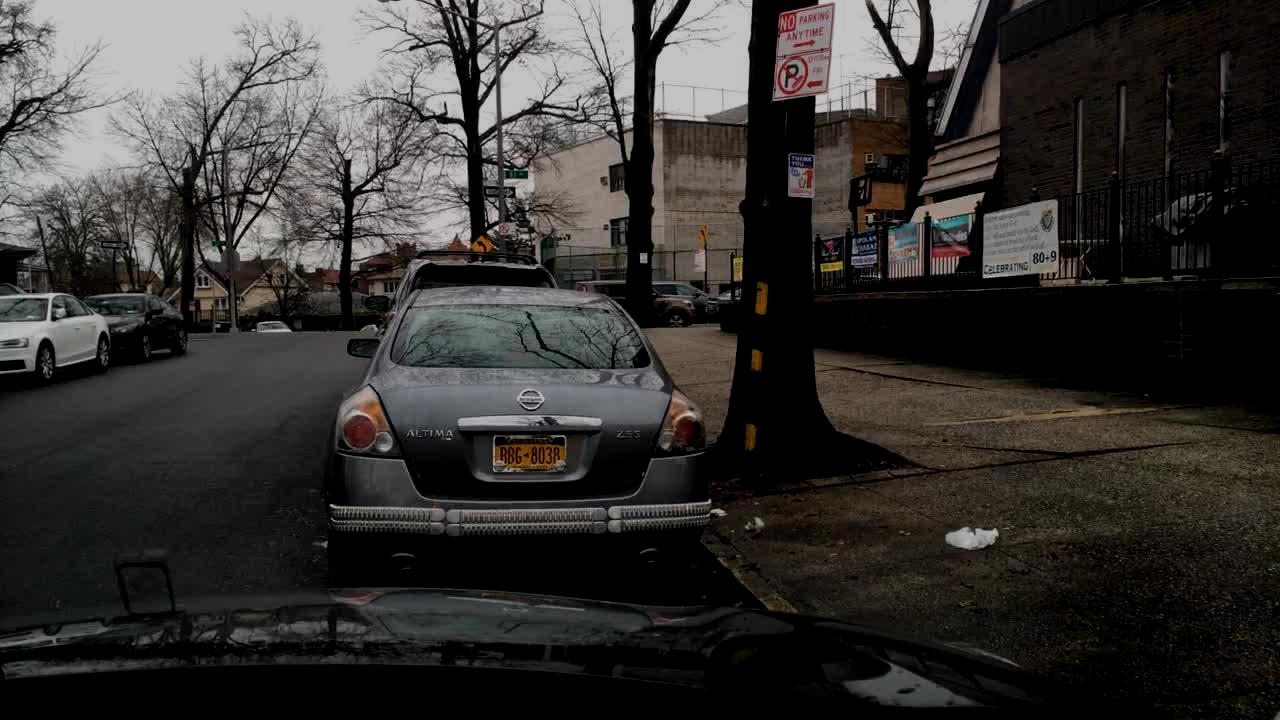Nissan: (514, 383, 561, 420)
